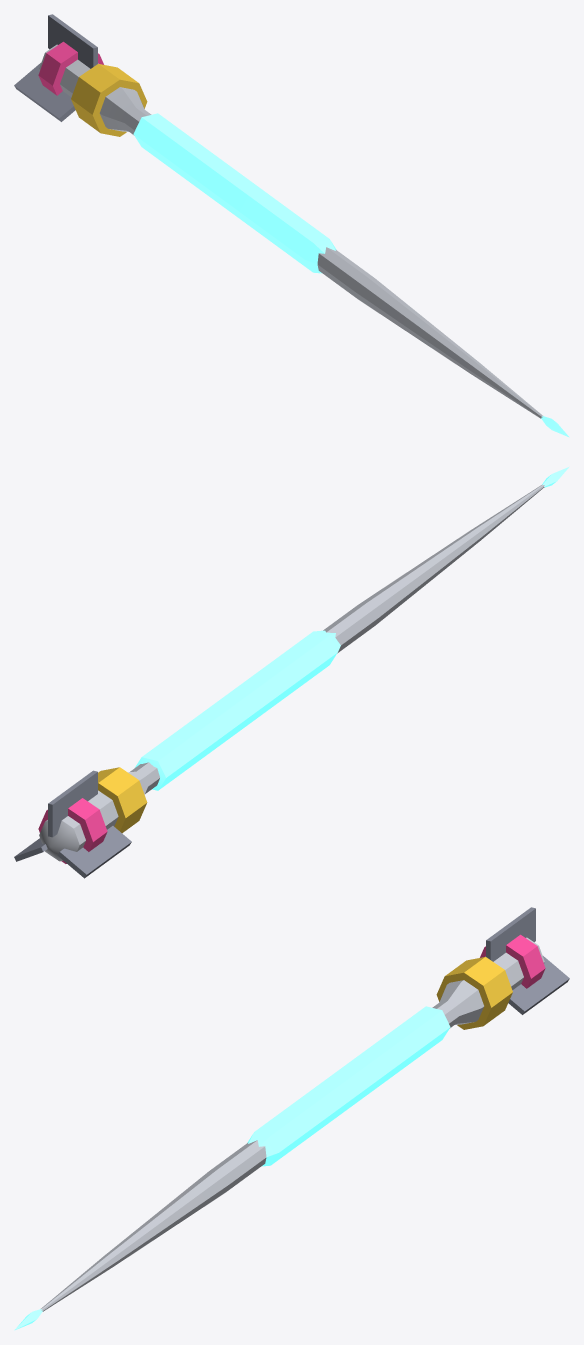
Rendered from pierce.glb.
3 views of the same model, one above another, from view 1: azimuth 30°, elevation 25°; view 2: azimuth 150°, elevation 25°; view 3: azimuth 330°, elevation 25° (orthographic).
Parts seen in each view (by area): view 1: Projectile; view 2: Projectile; view 3: Projectile.
Part boxes in pixels (x1,y1,x2,y2): Projectile: [14, 14, 569, 437]; Projectile: [14, 466, 569, 878]; Projectile: [14, 907, 569, 1330].
Bounding box in the file's own units: 0.0465 × 0.0435 × 0.575.
